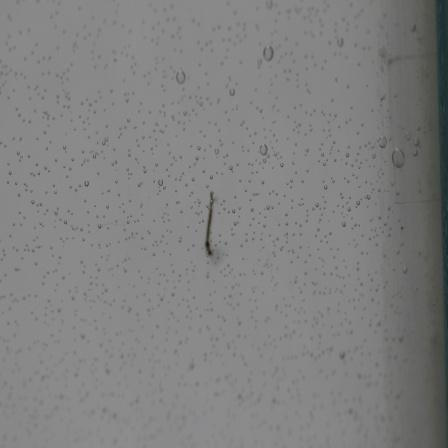Jentik-Nyamuk: (199, 188, 222, 258)
